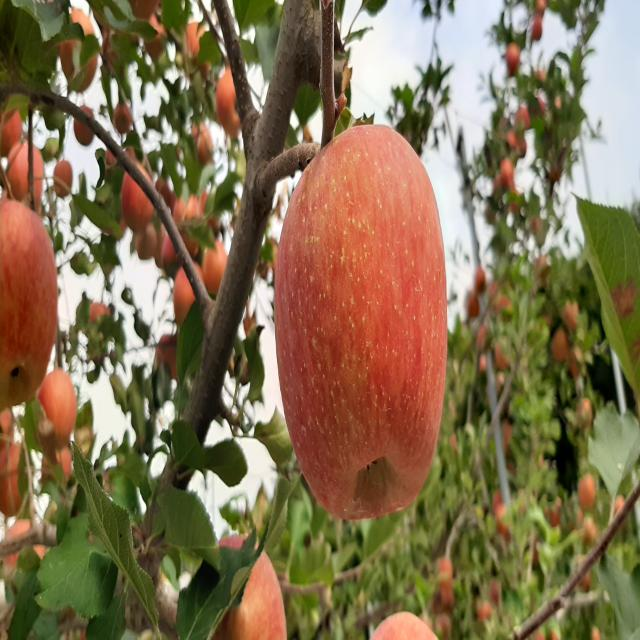fresh: (270, 115, 454, 526)
